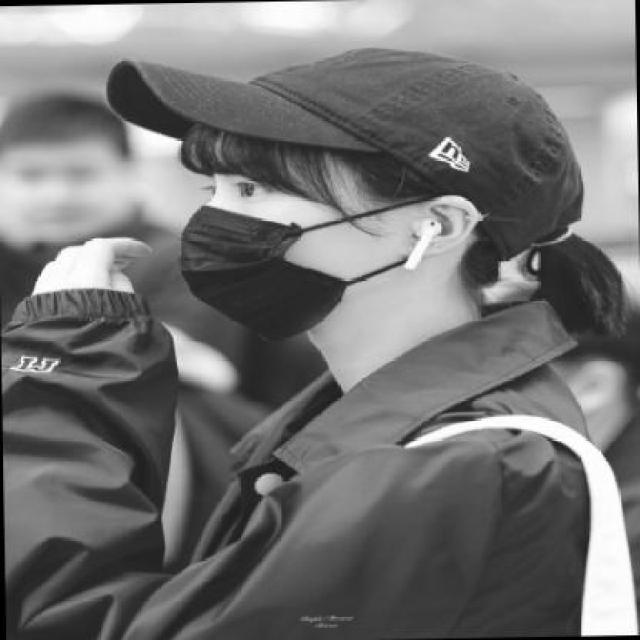earphone: (392, 203, 476, 289)
